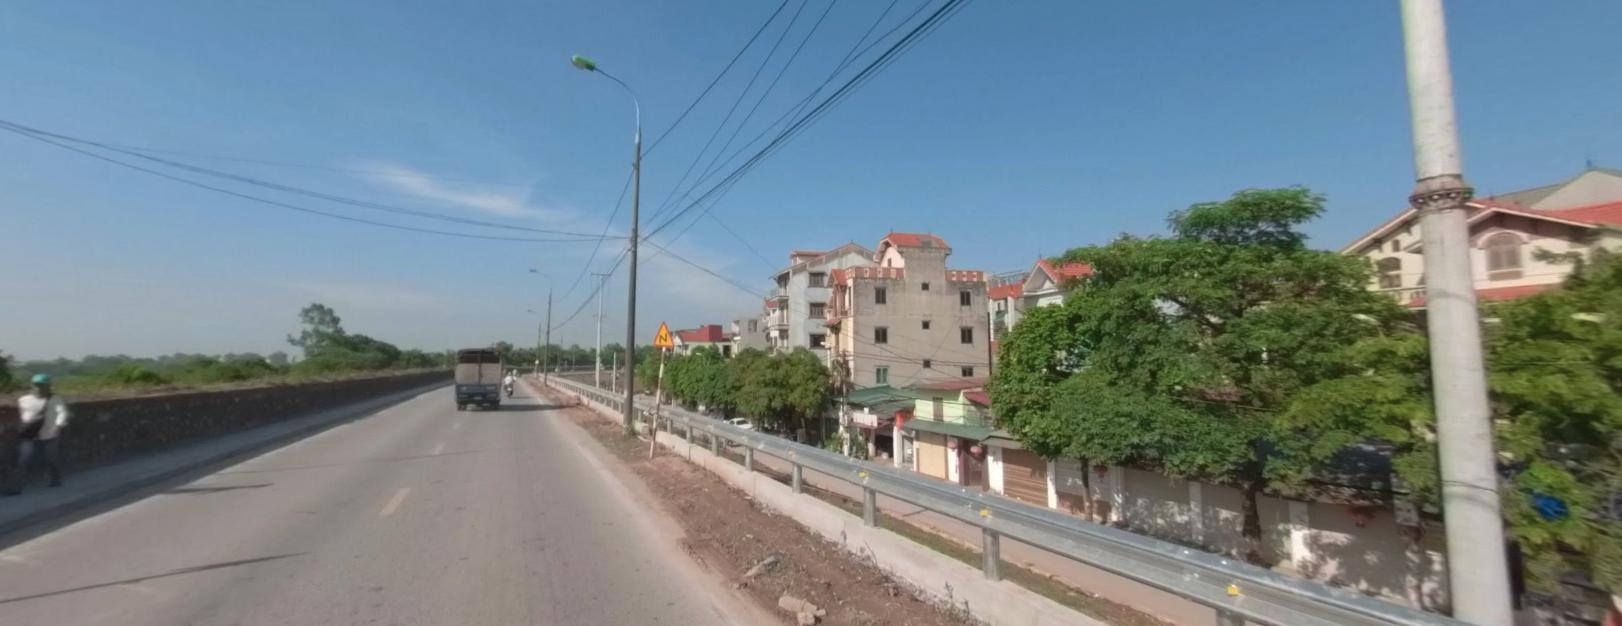Nguy hiem: (649, 319, 679, 345)
